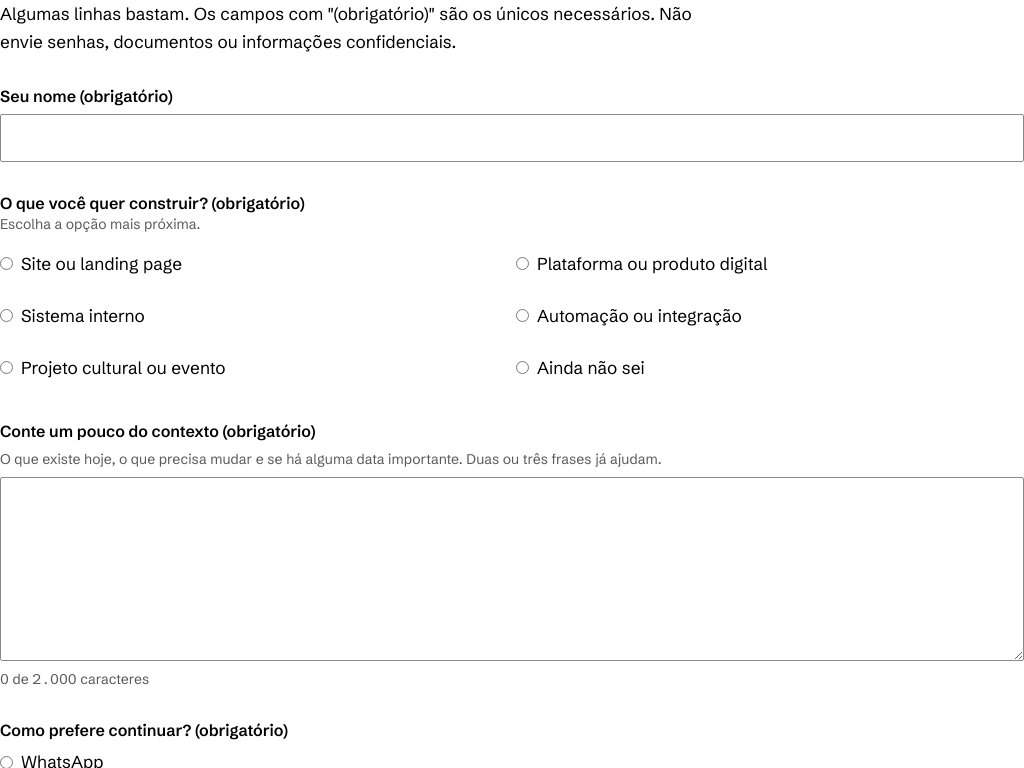
LeadForm (ilha) › segundo envio pendente é ignorado mesmo sem passar pelo clique do botão
Type "Ana" into the field labelled "Seu nome (obrigatório)" at (512, 138), box [0,114,1023,162]
Click the radio button labelled "Site ou landing page" at (6, 264), box [0,257,13,270]
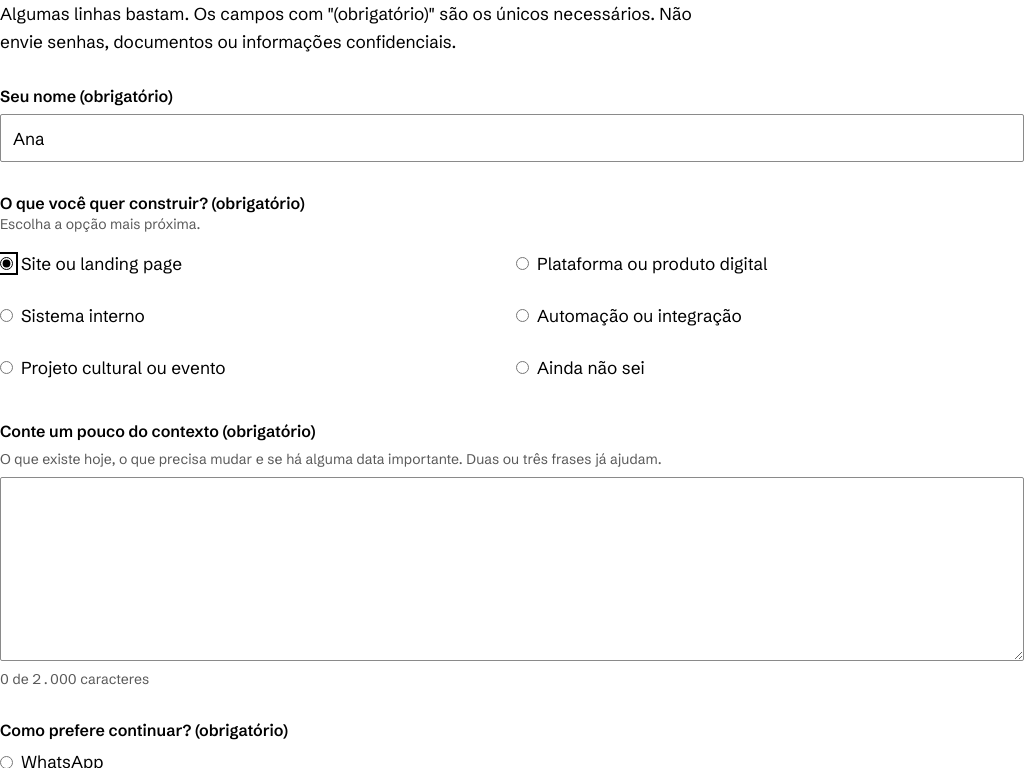
Type "Temos um site antigo e precisamos renovar." into the text box labelled "Conte um pouco do contexto (obrigatório)" at (512, 569), box [0,477,1023,661]
(page scrolled)
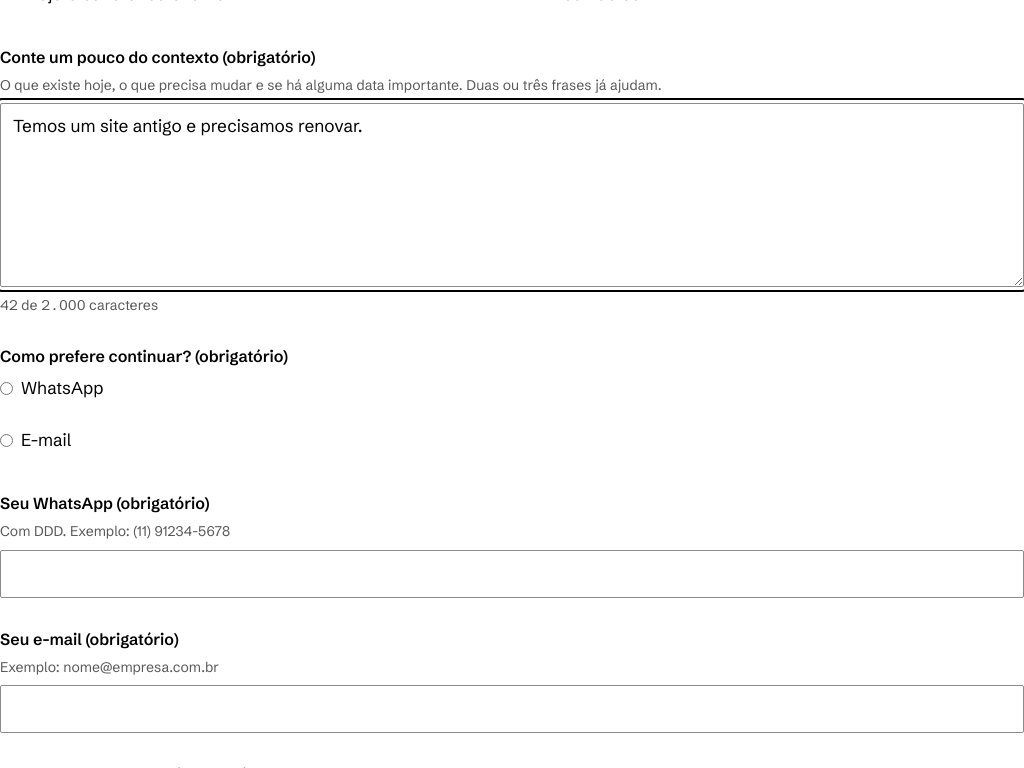
Click the radio button labelled "E-mail" at (6, 440), box [0,434,13,447]
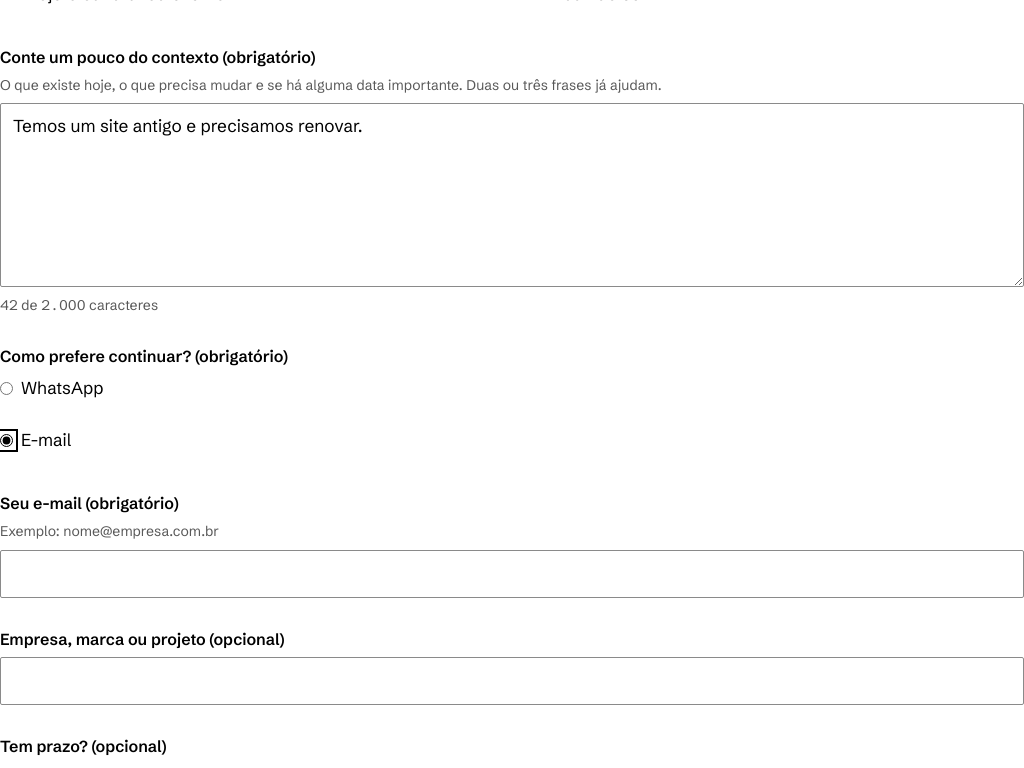
Type "ana@exemplo.com" into the field labelled "Seu e-mail (obrigatório)" at (512, 574), box [0,550,1023,598]
(page scrolled)
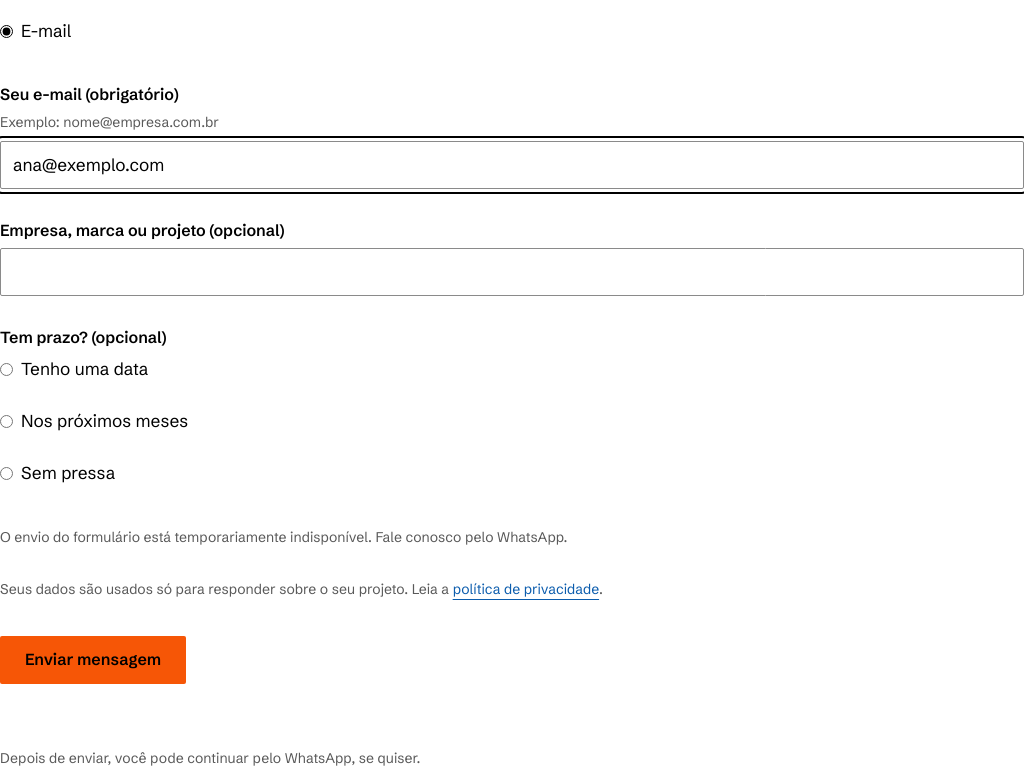
Click the button "Enviar mensagem" at (93, 660), box [0,636,186,684]
(page scrolled)
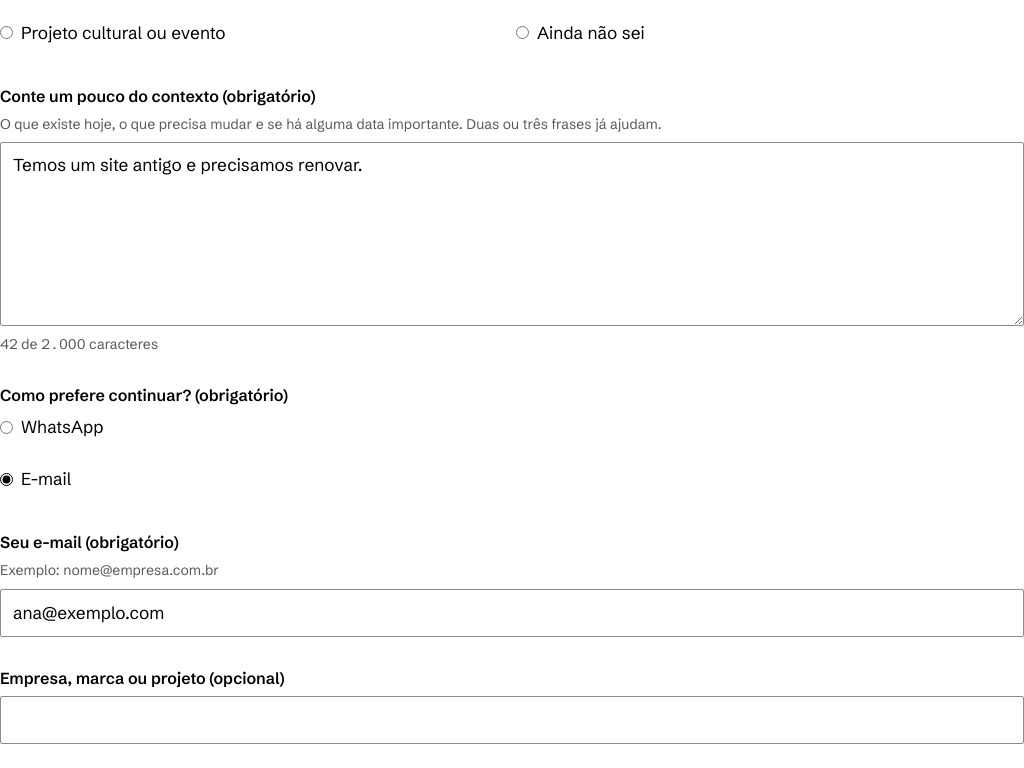
Submit the form
(page scrolled)
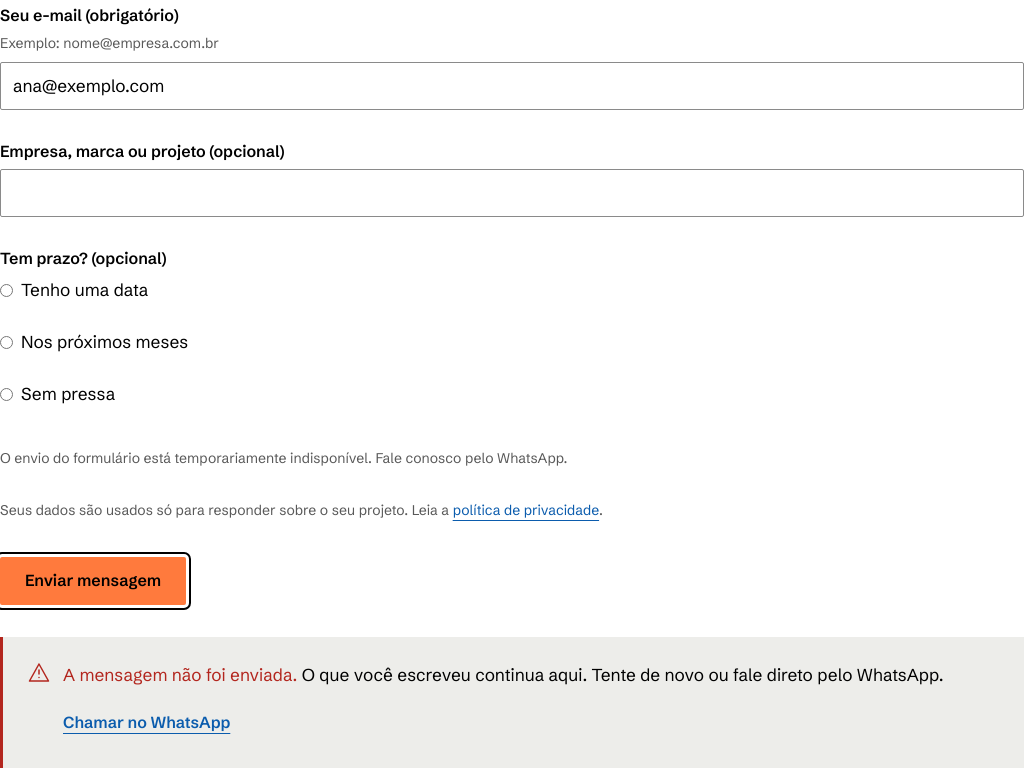
Expected: the text "A mensagem não foi enviada." is shown, [63,664,297,685]
